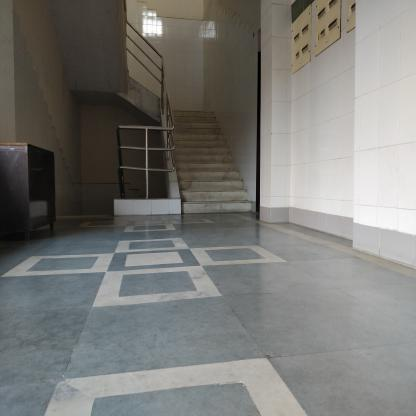stairs: (182, 148, 235, 218)
